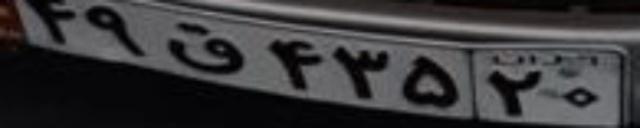0: (553, 85, 602, 109)
2: (486, 68, 543, 116)
3: (330, 46, 390, 99)
4: (264, 39, 322, 91), (19, 0, 78, 45)
5: (396, 55, 462, 106)
9: (84, 5, 142, 56)
ghaf: (162, 21, 244, 74)
